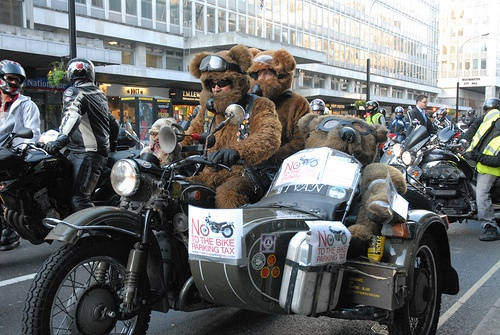non-vehicle: (21, 103, 460, 331), (0, 127, 140, 244), (382, 124, 479, 218)
